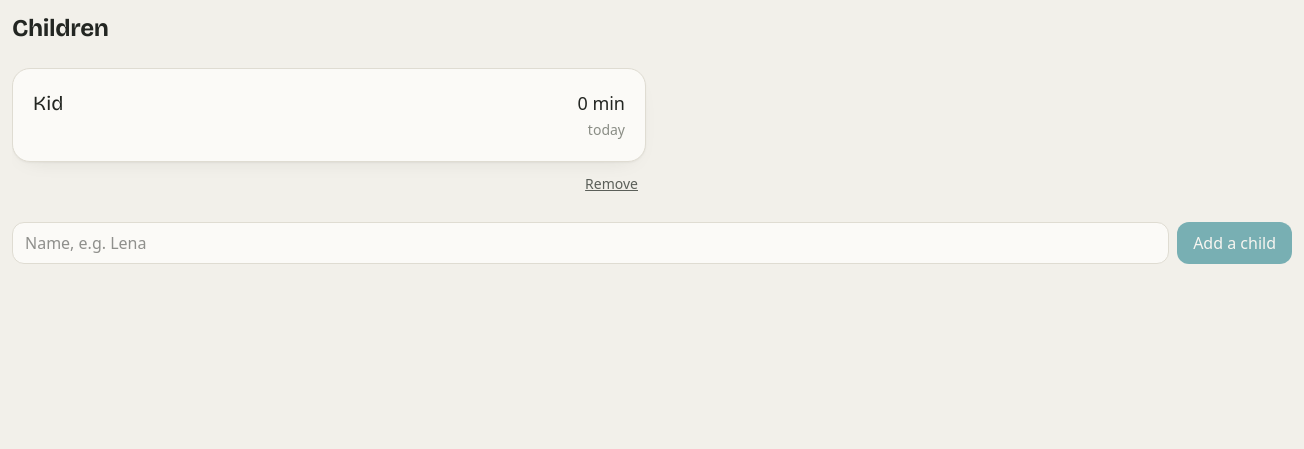
it: Children › says what went wrong and keeps the child on screen when the delete fails
Check: the text "Kid" is shown, box 33,89 -> 63,117
Click the button "Remove". click: [612, 184]
box: 577,170 -> 646,198
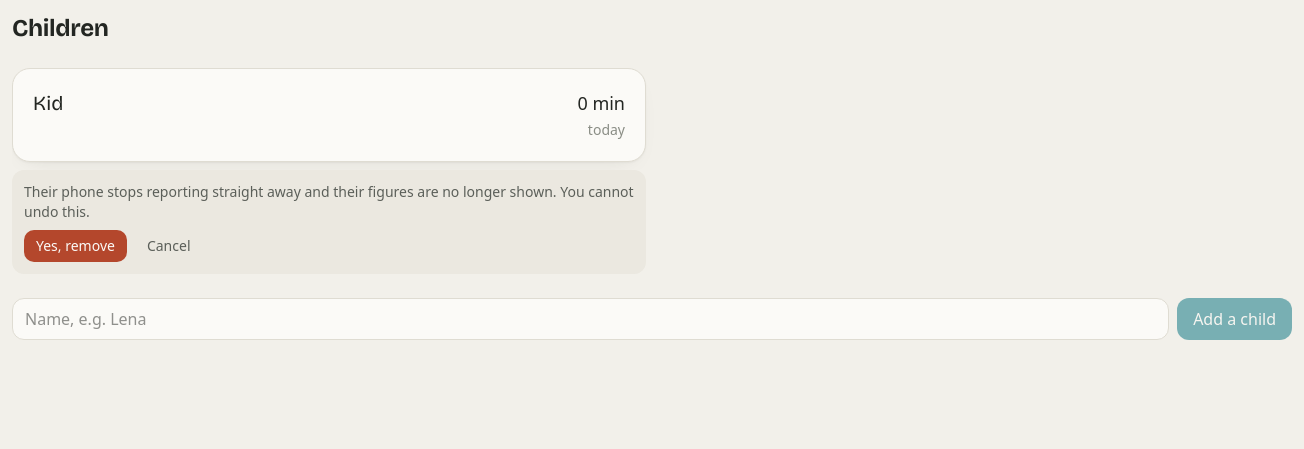
Click the button "Yes, remove". click: [75, 246]
box: 24,230 -> 127,262
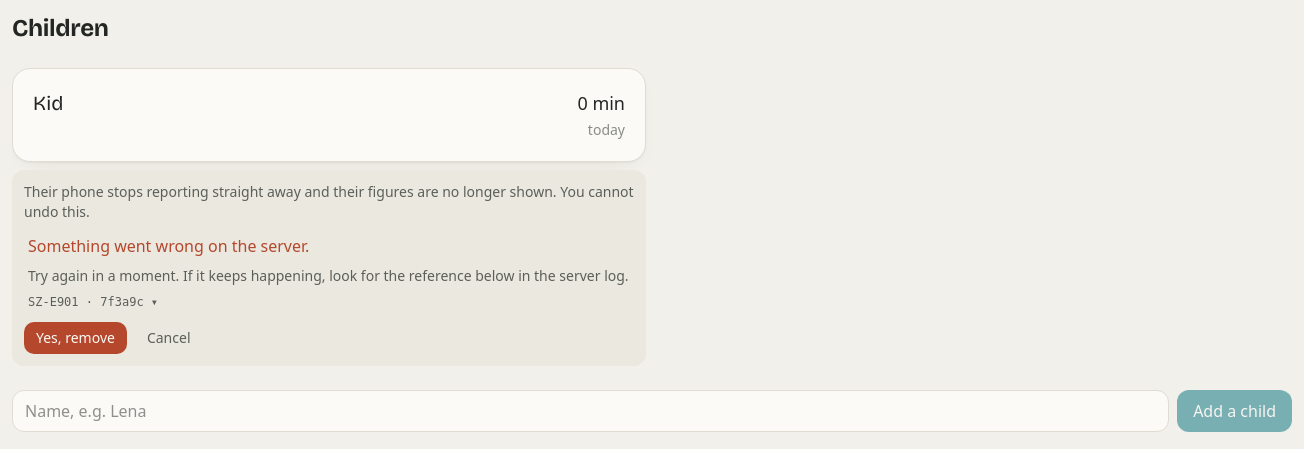
Check: the text "Kid" is shown, box 33,89 -> 63,117
Check: the text "Their phone stops reporting straight away and their figures are no longer shown. You cannot undo this." is shown, box 24,182 -> 634,221
Check: the button "SZ-E901 · 7f3a9c ▾" is shown, box 28,294 -> 158,310
